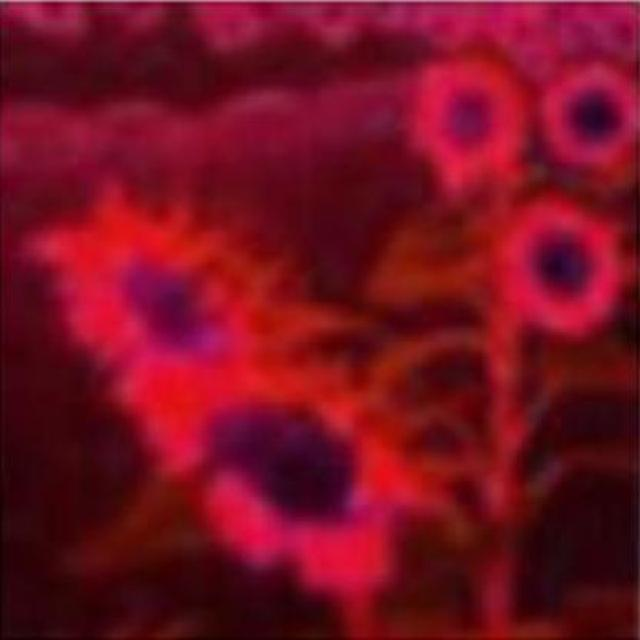sunflower: (126, 369, 447, 602), (398, 54, 530, 198), (495, 202, 627, 342), (538, 63, 640, 168)
